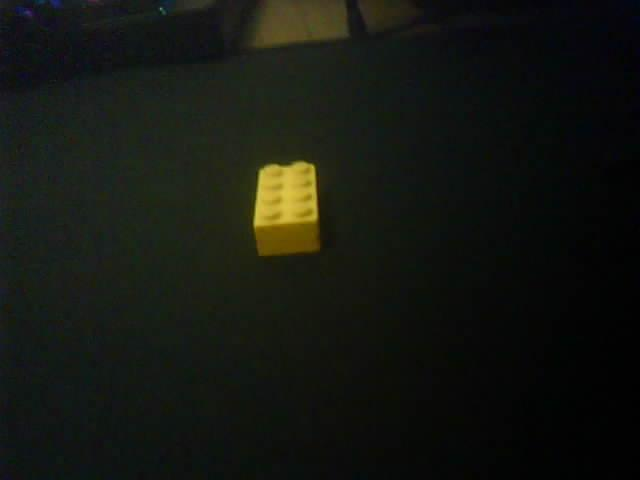lego: (253, 159, 322, 258)
